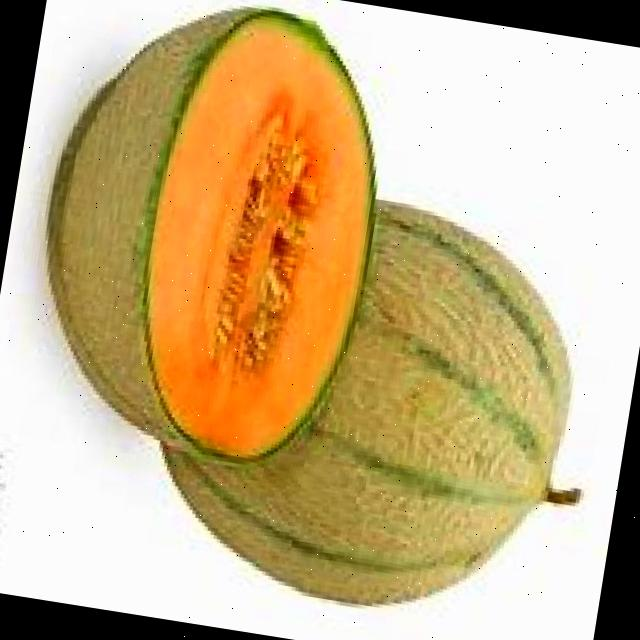Hami Melon: (148, 173, 597, 635), (15, 0, 403, 481)
